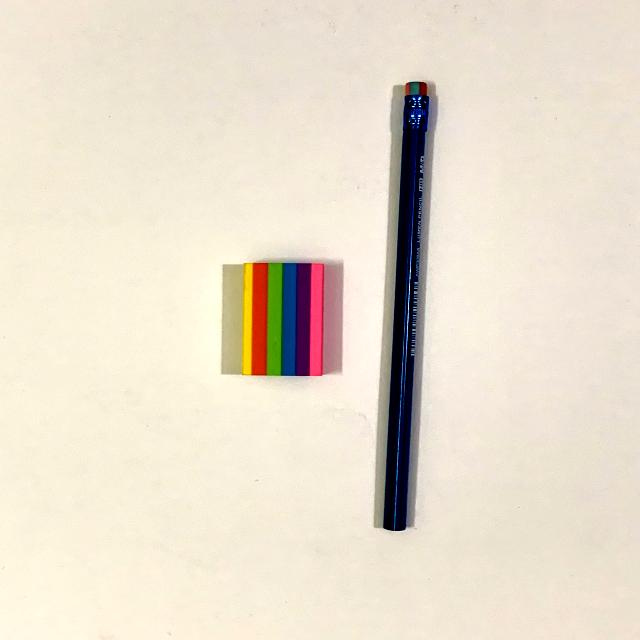Eraser: (224, 248, 343, 396)
Pencil: (354, 67, 461, 542)
